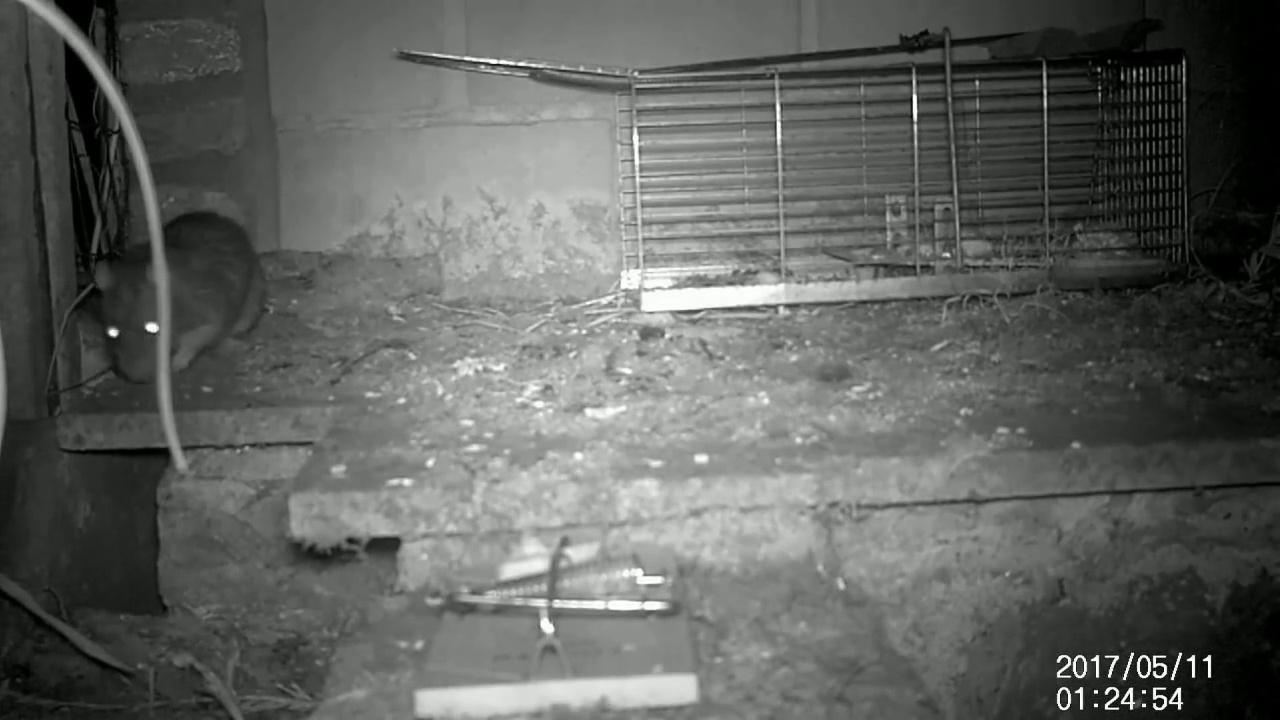rat: (93, 195, 266, 391)
